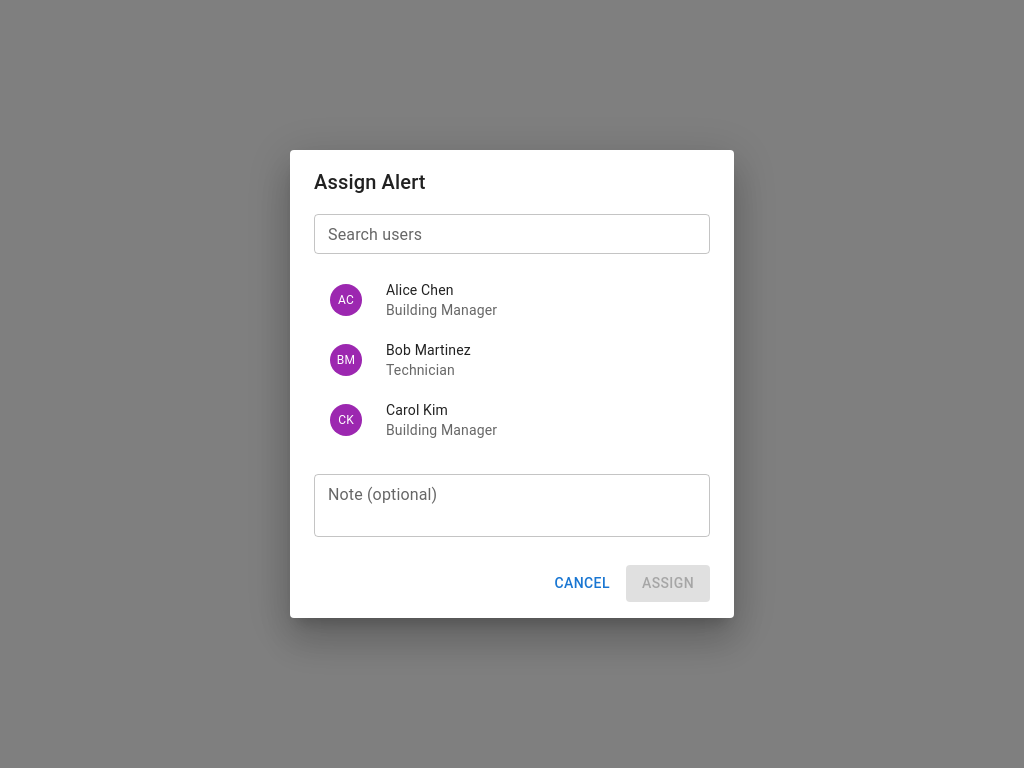
Scenario: AssignDialog › search filters displayed users
In the field labelled "Search users": (512, 234) [314,214,710,254], type "Bob"
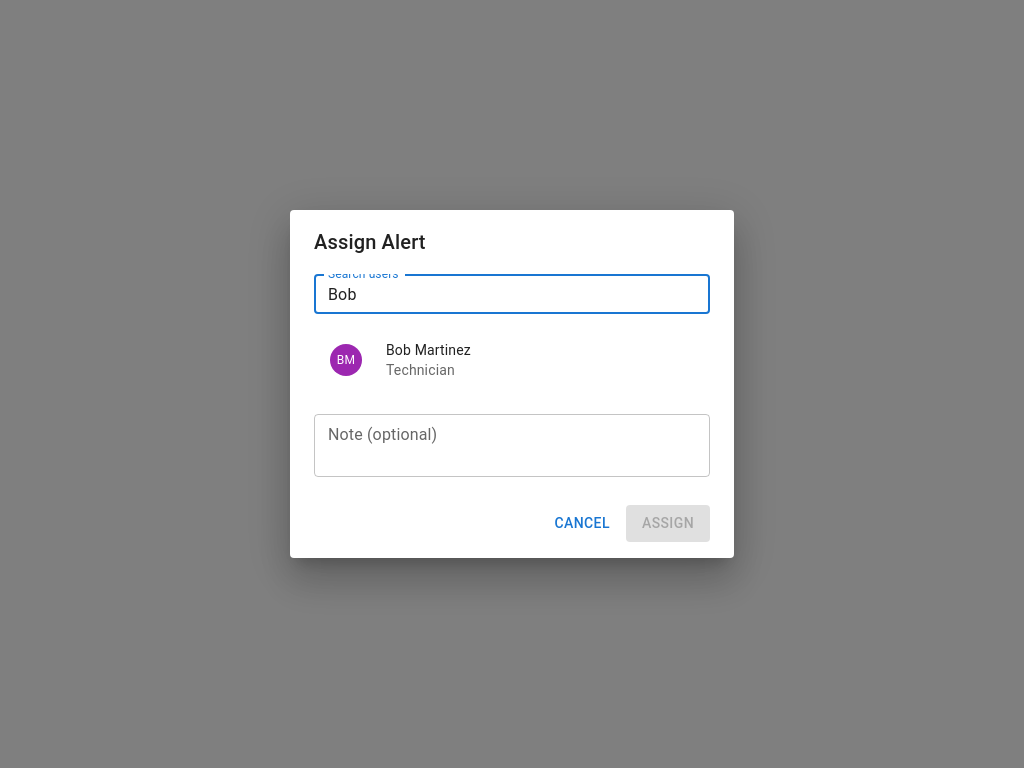
Expected: the text "Bob Martinez" is shown, [386,342,471,358]
Expected: the button "Carol Kim" is gone
